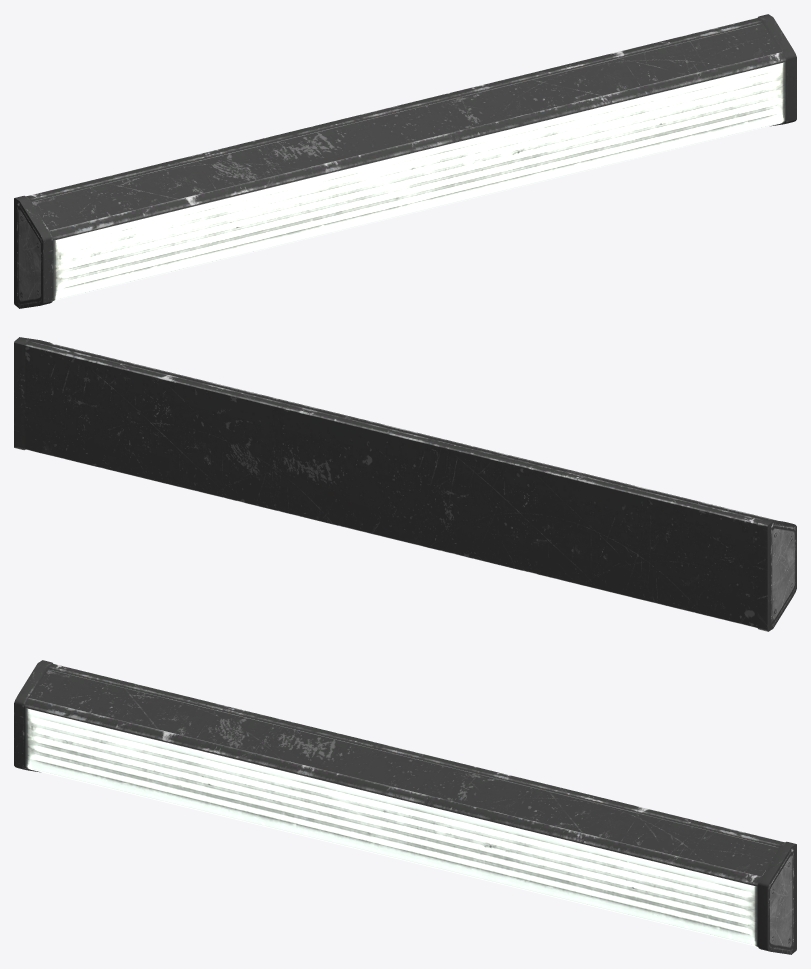
Rendered from SM_Wall_Light_02b.glb.
3 views of the same model, one above another, from view 1: azimuth 30°, elevation 25°; view 2: azimuth 150°, elevation 25°; view 3: azimuth 330°, elevation 25° (orthographic).
Parts seen in each view (by area): view 1: SM_Wall_Light_02b; view 2: SM_Wall_Light_02b; view 3: SM_Wall_Light_02b.
Boxes of the visible parts, <box> form: SM_Wall_Light_02b: <box>14,14,796,308</box>; SM_Wall_Light_02b: <box>14,337,796,631</box>; SM_Wall_Light_02b: <box>14,660,796,954</box>.
Bounding box in the file's own units: 1.5 × 0.2051 × 0.1007.
Materials: 1 (1 with a texture image).
